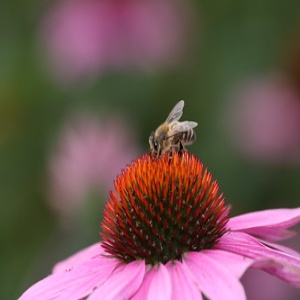bee: (148, 99, 198, 164)
